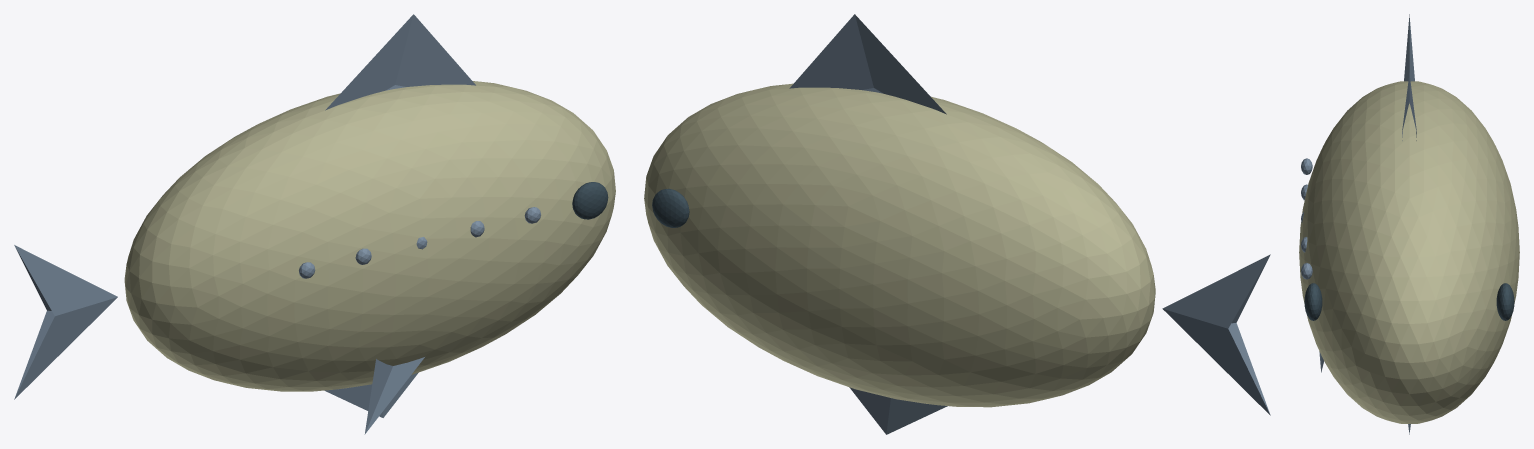
File: Ikan_Jebong.glb
3 views of the same model, side by side, from view 1: azimuth 30°, elevation 25°; view 2: azimuth 150°, elevation 25°; view 3: azimuth 270°, elevation 25° (orthographic). The views are drawn at different scales.
Visible parts, largest first — view 1: Part_00, Part_01, Part_02, Part_04, Part_05, Part_03; view 2: Part_00, Part_01, Part_02, Part_03, Part_06; view 3: Part_00, Part_05, Part_06, Part_01, Part_02.
Boxes of the visible parts, box(x1,y1,x2,y2) form: Part_00: box(124, 81, 615, 391); Part_01: box(14, 245, 117, 399); Part_02: box(325, 14, 475, 110); Part_04: box(364, 357, 424, 434); Part_05: box(572, 182, 608, 219); Part_03: box(325, 372, 418, 417); Part_00: box(644, 83, 1155, 407); Part_01: box(1162, 254, 1270, 415); Part_02: box(789, 14, 946, 114); Part_03: box(849, 387, 947, 434); Part_06: box(652, 188, 689, 227); Part_00: box(1299, 81, 1519, 423); Part_05: box(1304, 283, 1322, 320); Part_06: box(1496, 283, 1514, 320); Part_01: box(1404, 14, 1414, 81); Part_02: box(1402, 73, 1416, 140).
Bounding box in the file's own units: 1.3 × 0.8294 × 0.4408.
